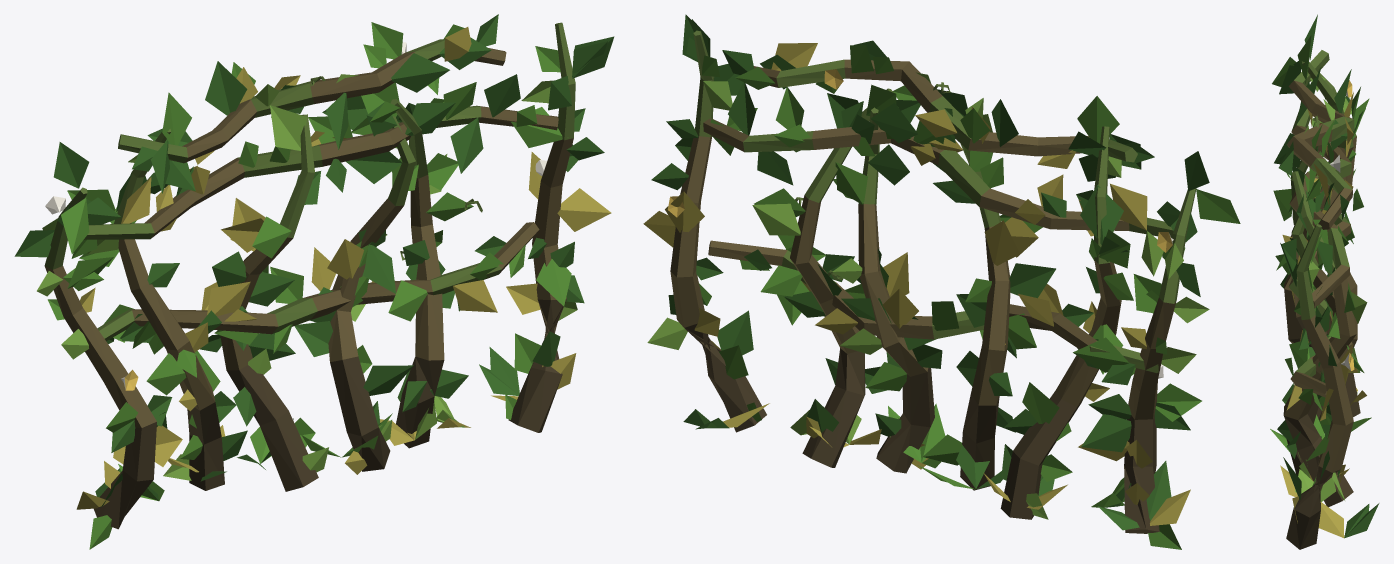
Rendered from Gate_Vines.fbx.
3 views of the same model, side by side, from view 1: azimuth 30°, elevation 25°; view 2: azimuth 150°, elevation 25°; view 3: azimuth 270°, elevation 25° (orthographic). The views are drawn at different scales.
Visible parts, largest first — view 1: Gate_Vines; view 2: Gate_Vines; view 3: Gate_Vines.
Boxes of the visible parts, x1,y1,x2,y2 form: Gate_Vines: [14, 14, 614, 549]; Gate_Vines: [643, 14, 1240, 549]; Gate_Vines: [1270, 14, 1379, 549].
Size of the model in its own units: 2.25 by 1.65 by 0.435.
Materials: 1 (1 with a texture image).
